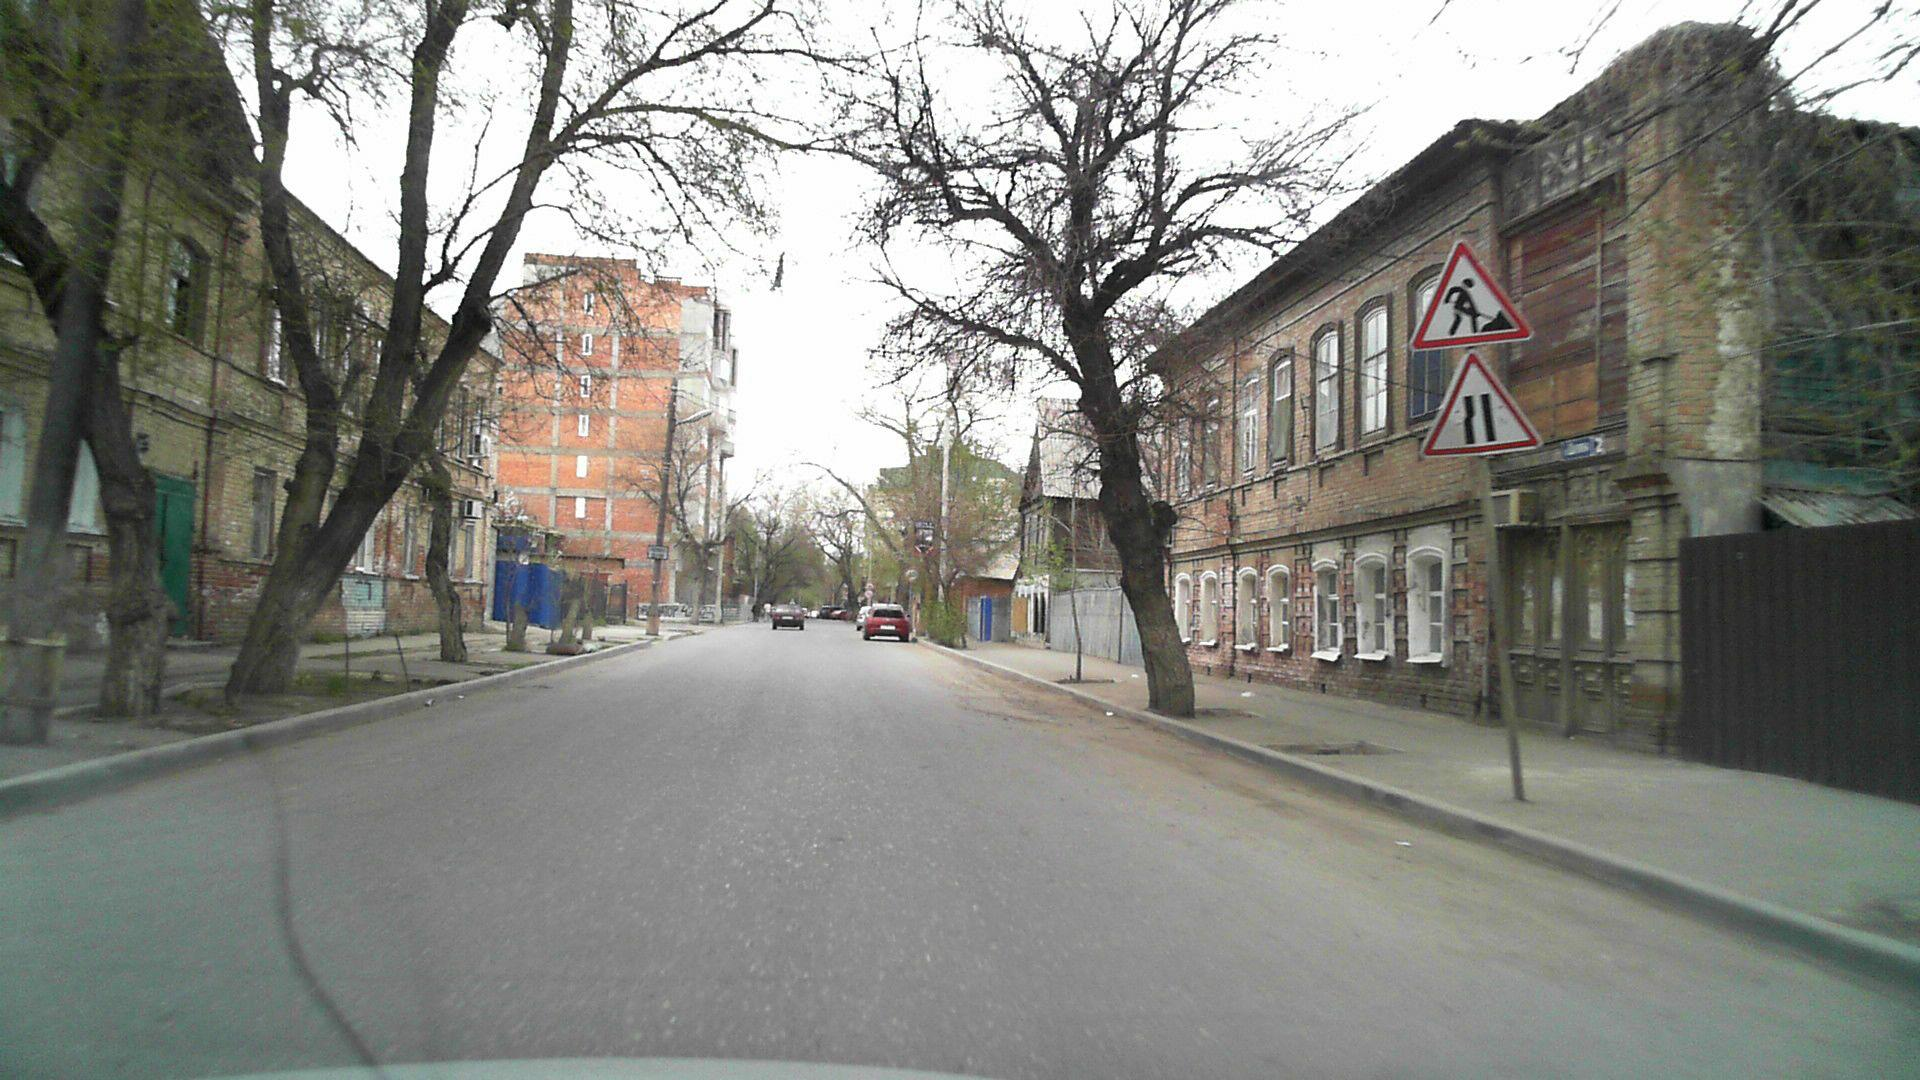1_20_3: (1407, 351, 1543, 458)
1_25: (1411, 235, 1536, 347), (865, 580, 874, 589)
3_24: (905, 567, 919, 582), (864, 589, 874, 599)
